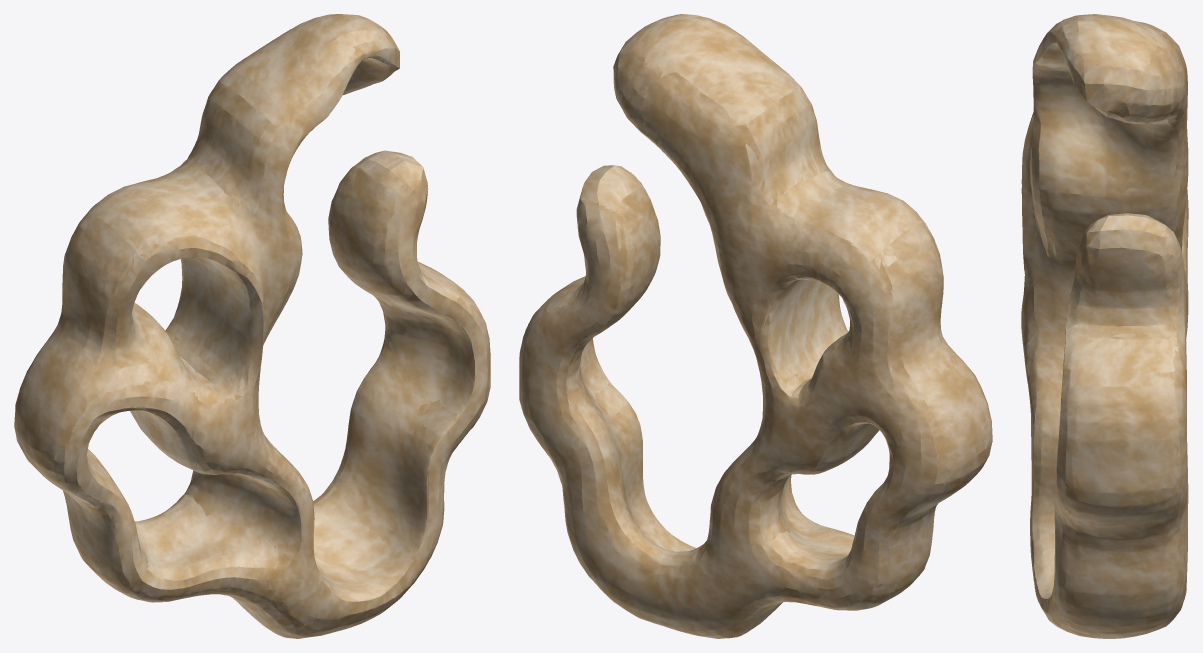
Rendered from pendientereducido2.glb.
3 views of the same model, side by side, from view 1: azimuth 30°, elevation 25°; view 2: azimuth 150°, elevation 25°; view 3: azimuth 270°, elevation 25° (orthographic). The views are drawn at different scales.
Parts seen in each view (by area): view 1: model; view 2: model; view 3: model.
Part boxes in pixels (x1,y1,x2,y2): model: (14,14,490,638); model: (519,14,992,638); model: (1021,14,1188,638).
Size of the model in its own units: 7.6 by 9.83 by 2.41.
1 material, 1 textured.
